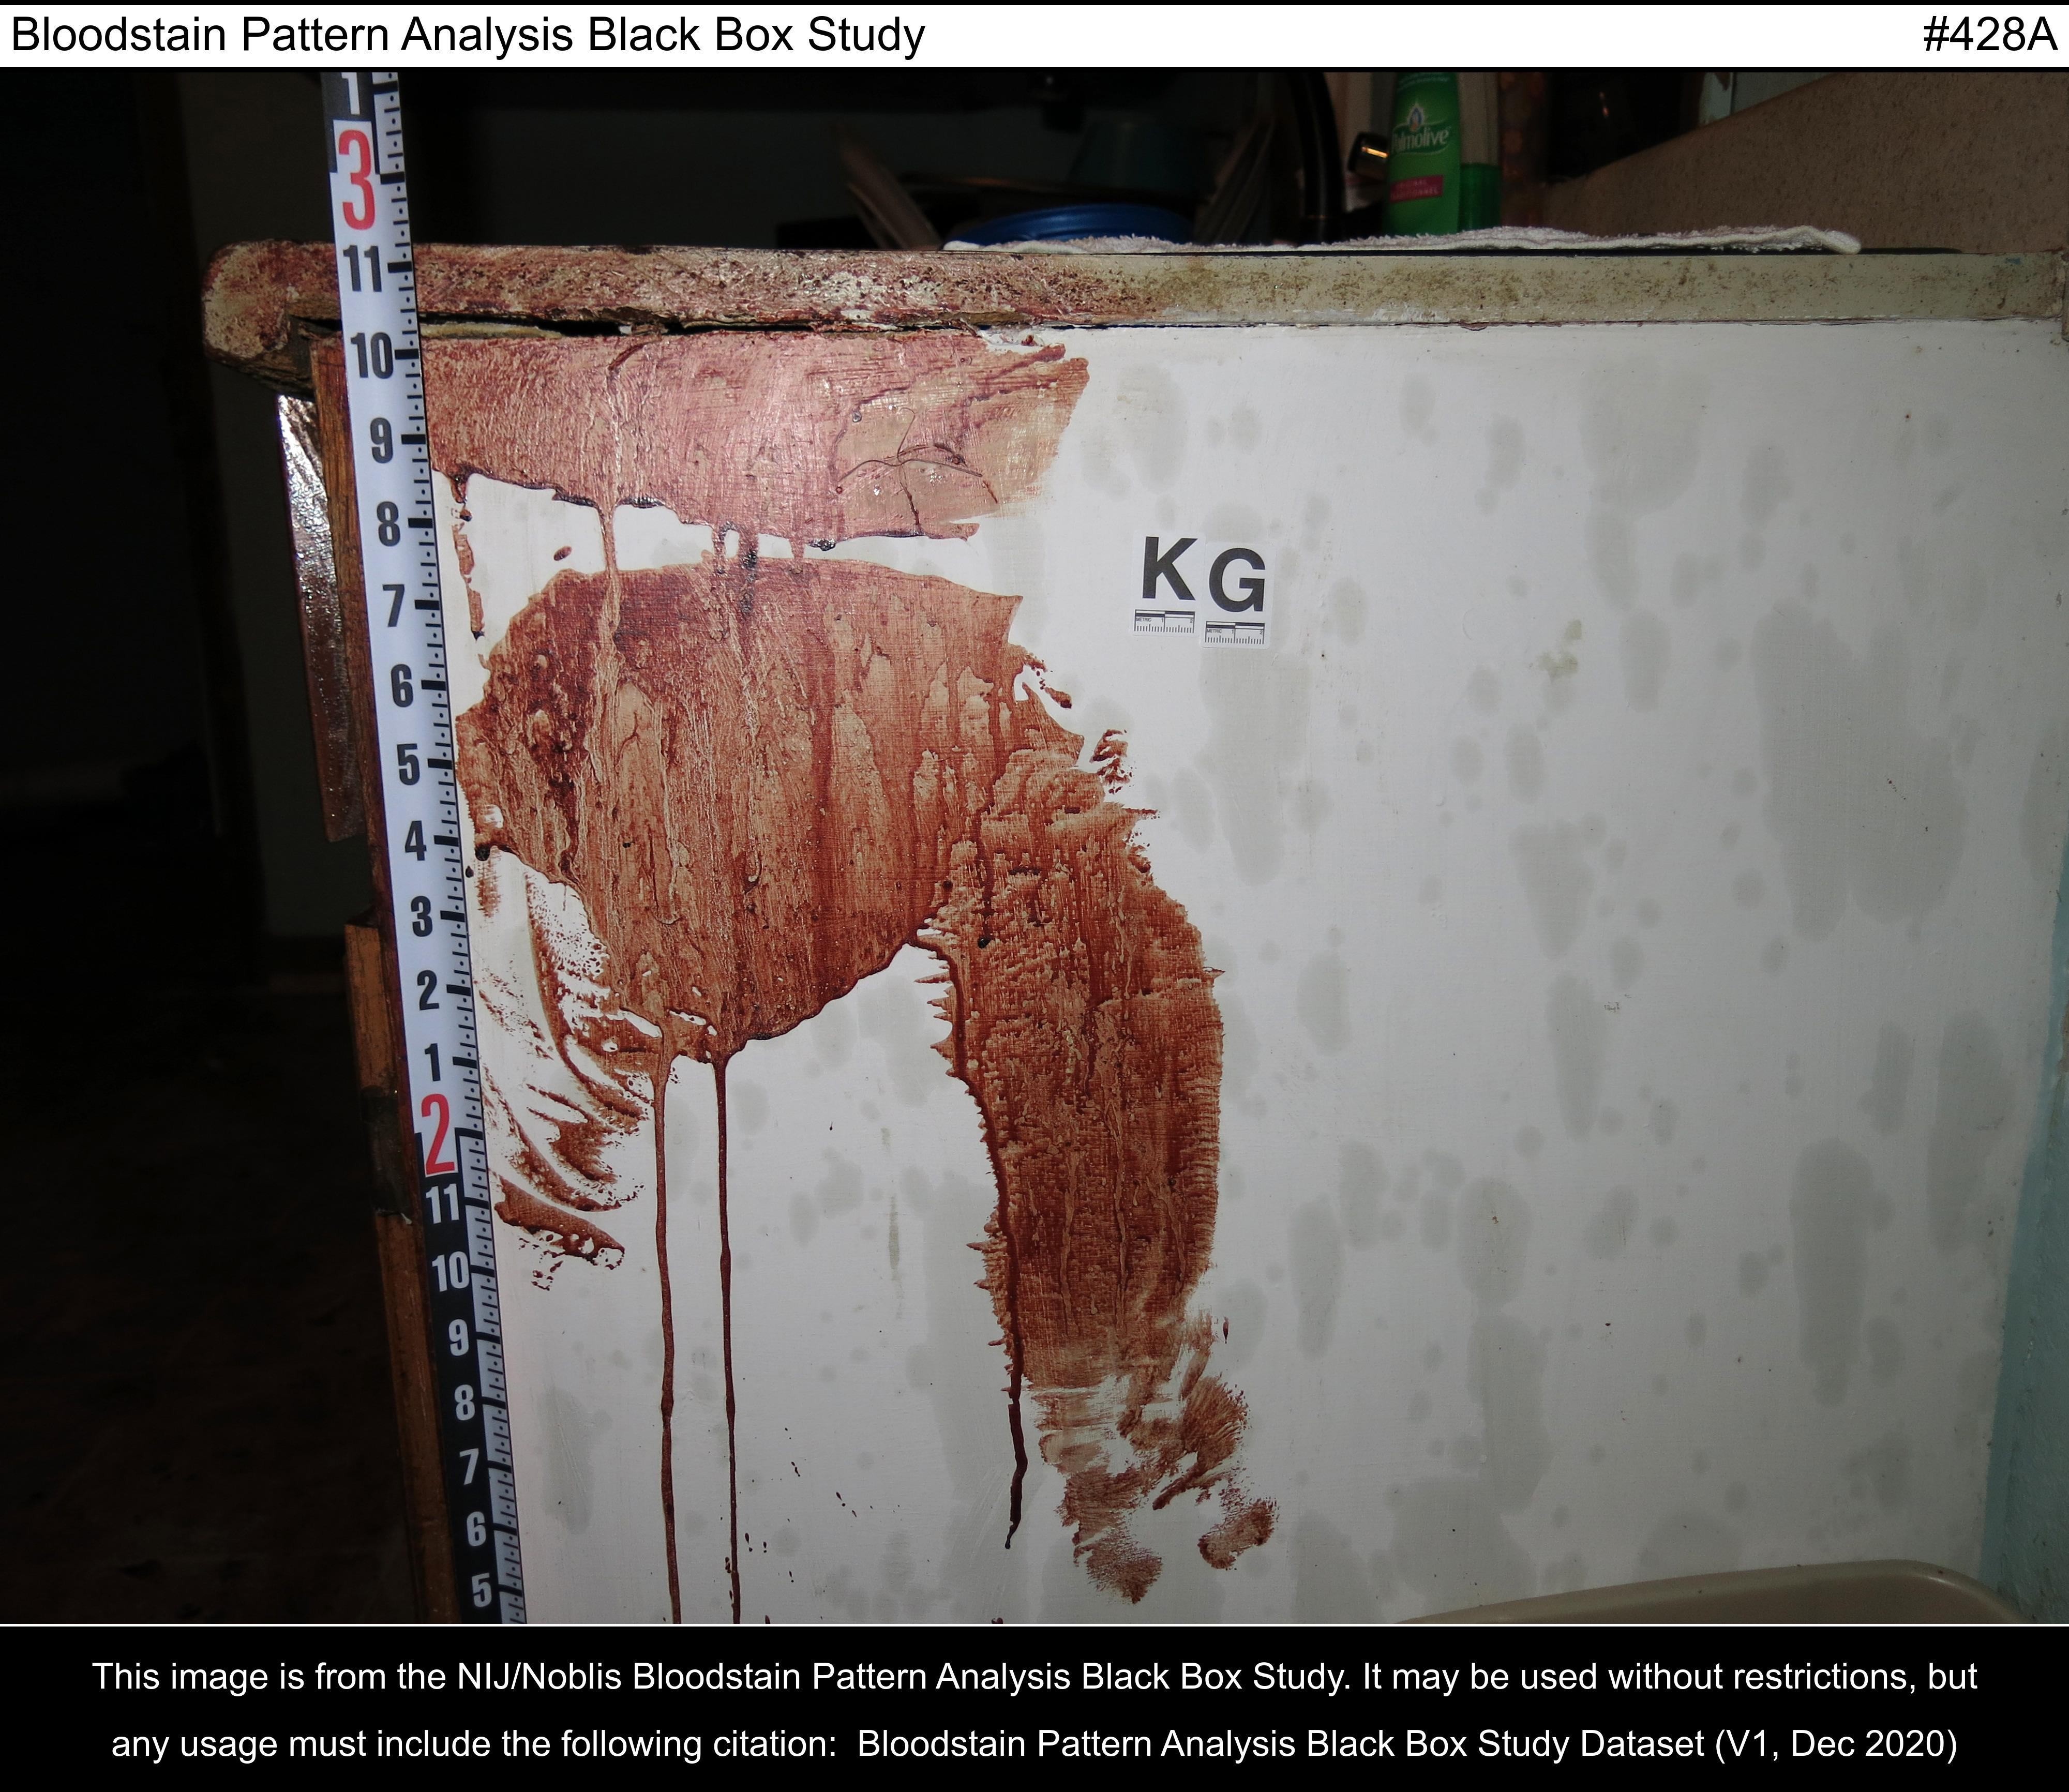Transfer: (435, 355, 1304, 1570)
